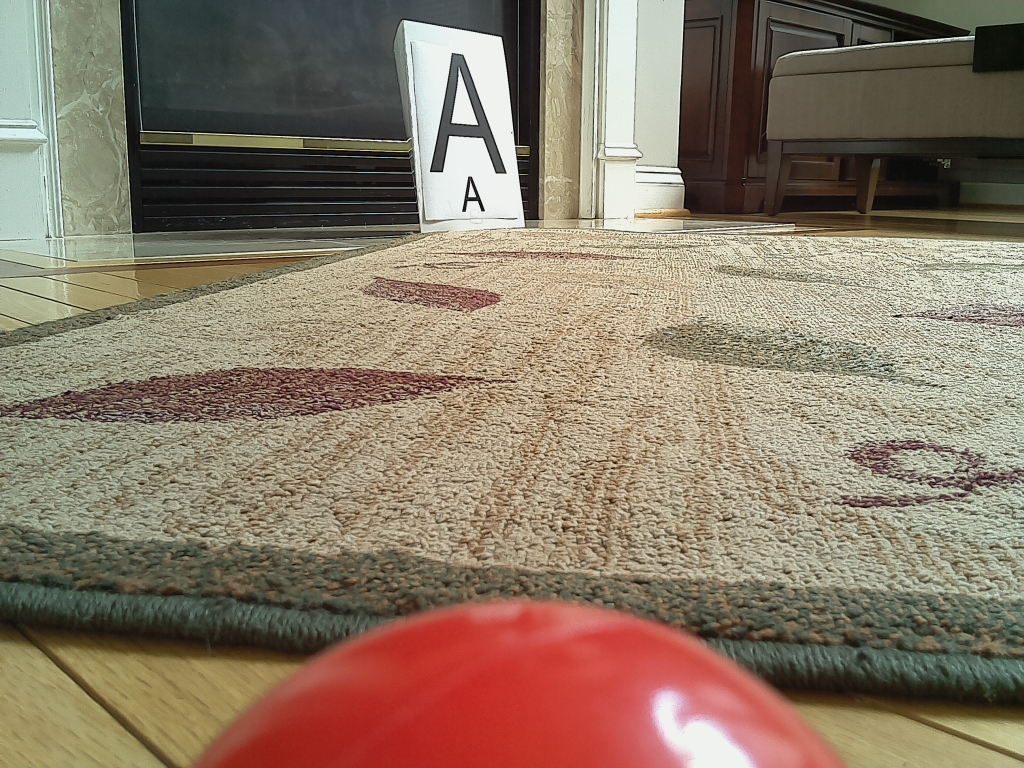letter: (430, 53, 512, 173)
